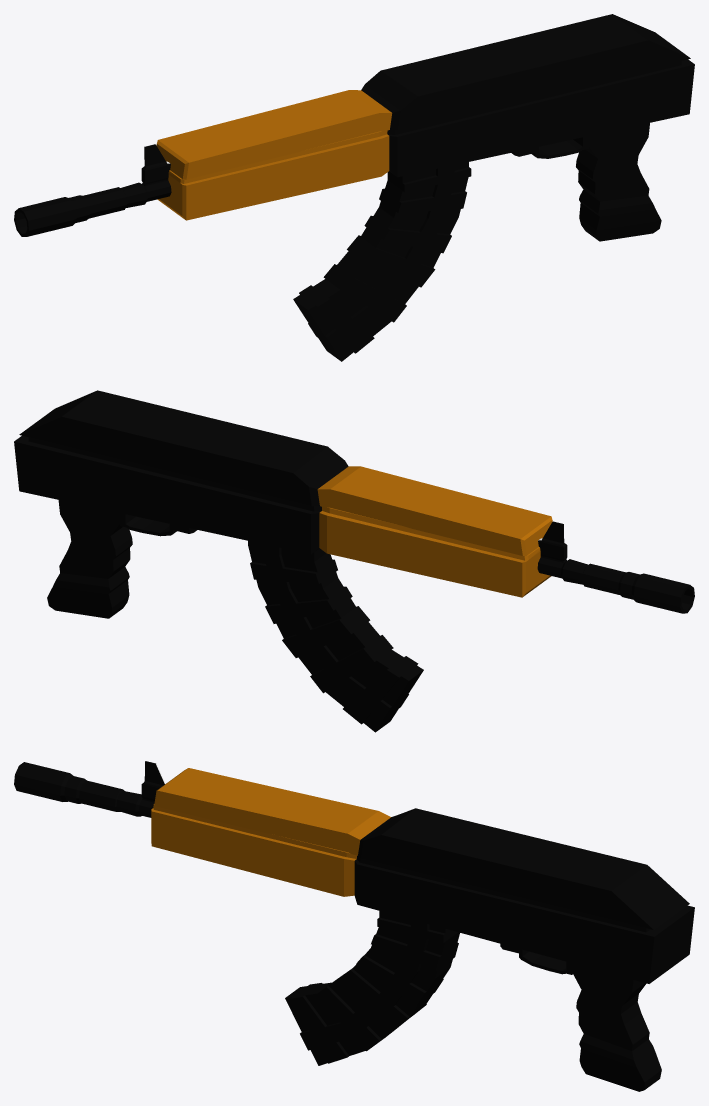
The picture shows the model from 3 angles, top to bottom: view 1: azimuth 30°, elevation 25°; view 2: azimuth 150°, elevation 25°; view 3: azimuth 330°, elevation 25°; orthographic projection.
Parts seen in each view (by area): view 1: Cube, Cube.001; view 2: Cube, Cube.001; view 3: Cube, Cube.001.
Boxes of the visible parts, x1,y1,x2,y2 form: Cube: (14, 14, 694, 241); Cube.001: (293, 162, 471, 361); Cube: (14, 390, 694, 618); Cube.001: (248, 541, 423, 732); Cube: (14, 761, 694, 1091); Cube.001: (285, 911, 459, 1065).
Size of the model in its own units: 5.57 by 2.06 by 0.5983.
